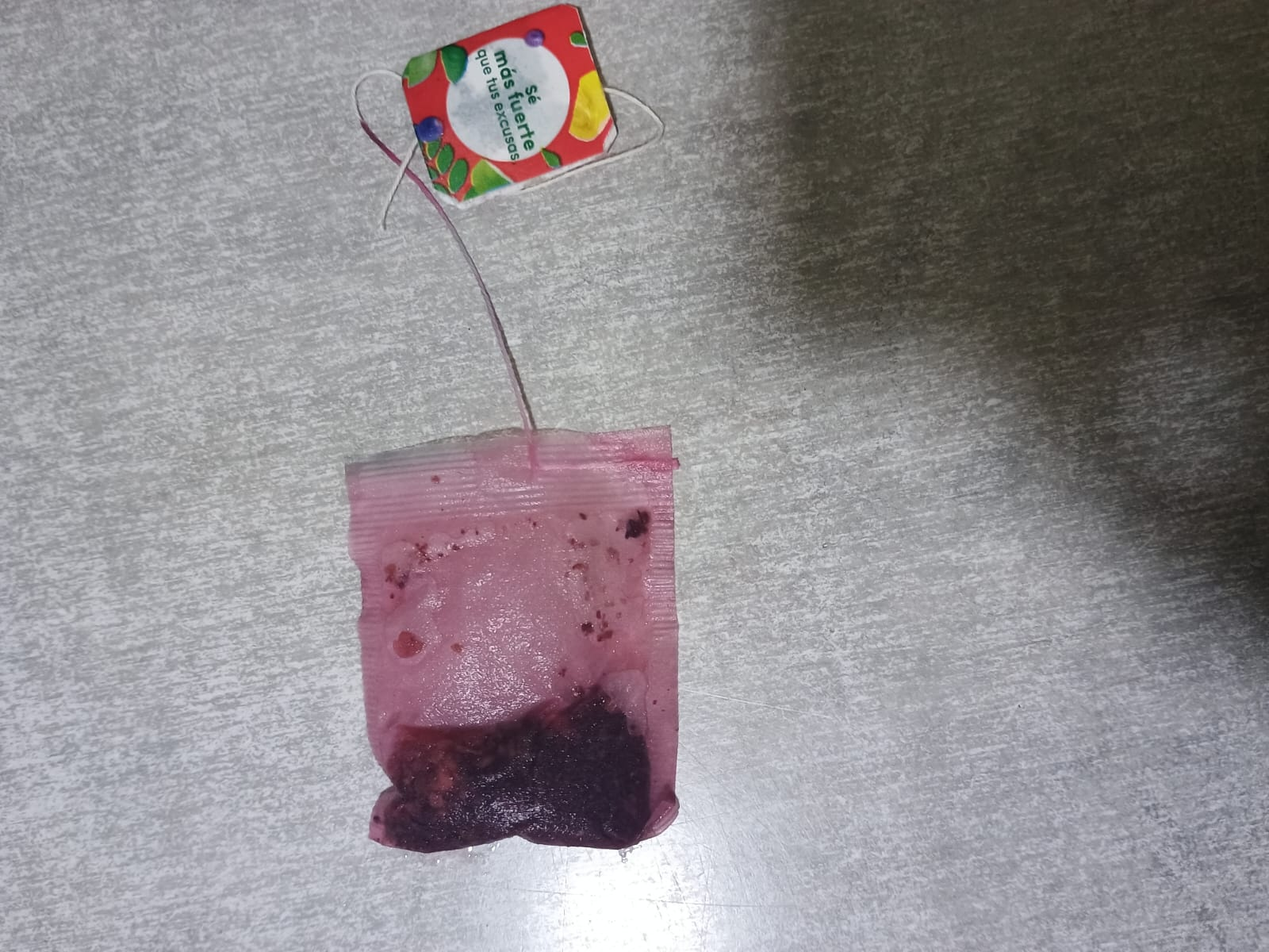Ordinario: (345, 429, 681, 850)
